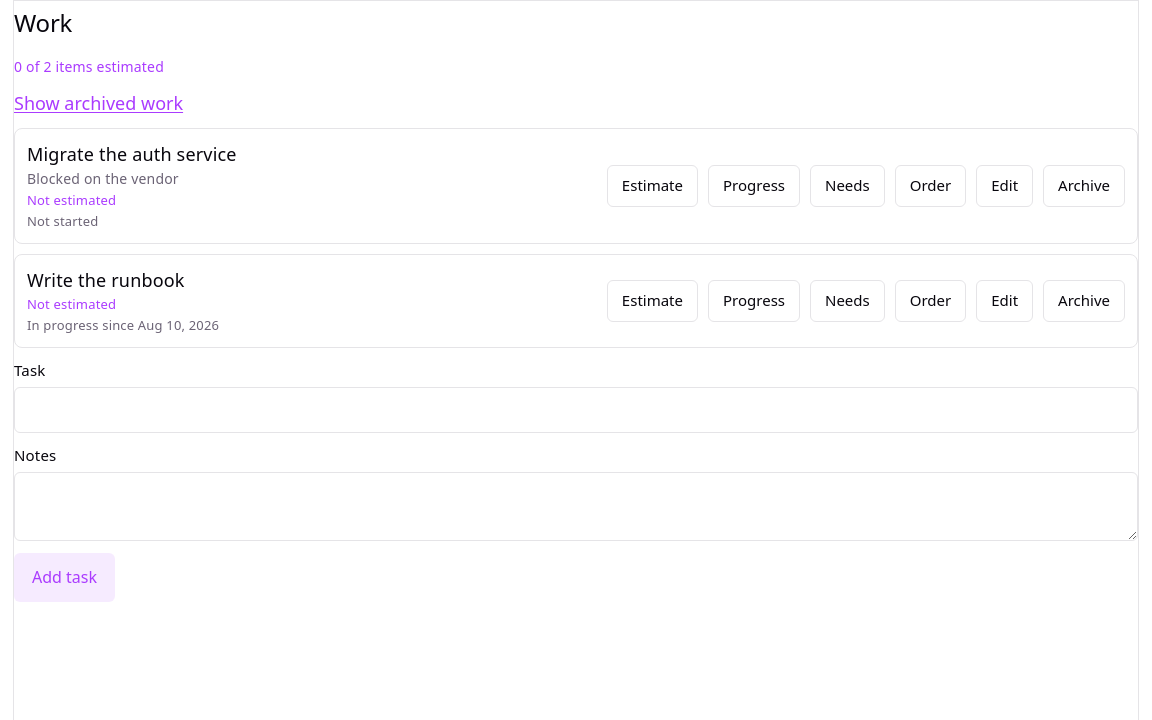
Test case: WorkItems › rewords an item in place
Expected: the heading "Work" is shown, top-left (14, 6), bottom-right (72, 39)
Click the button with aria-label "Edit Write the runbook" at (1005, 301), box top-left (976, 280), bottom-right (1033, 322)
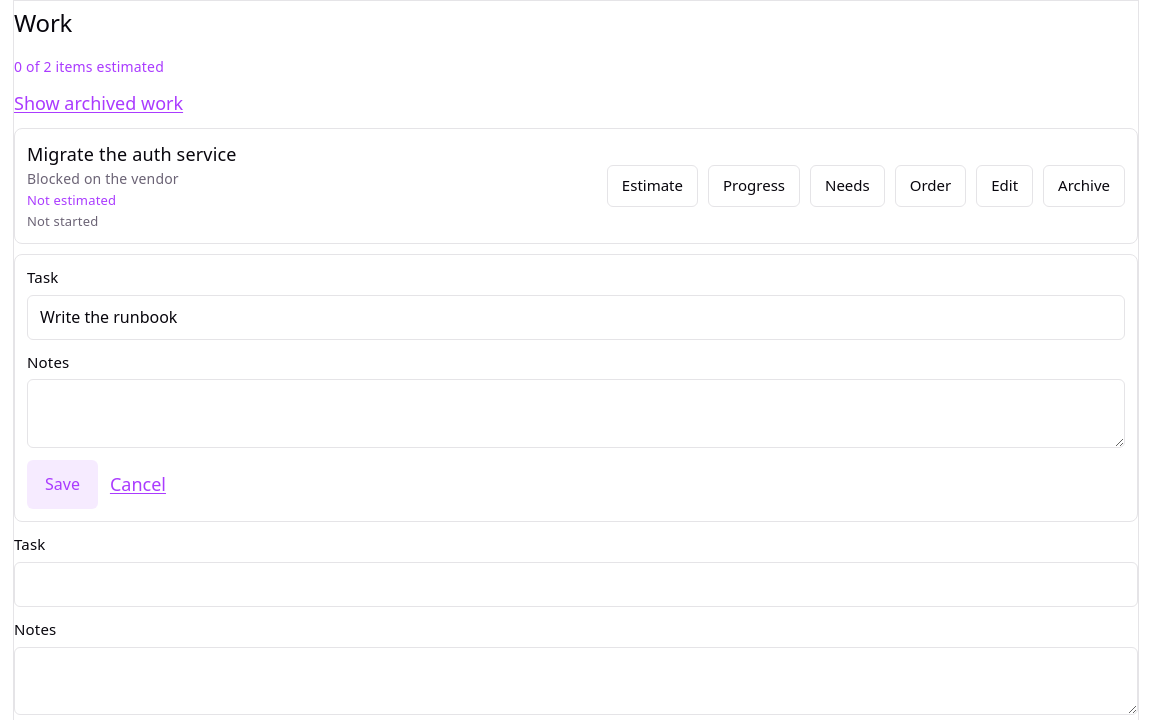
Replace the text in the field labelled "Task" below "Not started" with "Write the runbook and the rollback" at (576, 317), box top-left (27, 294), bottom-right (1125, 340)
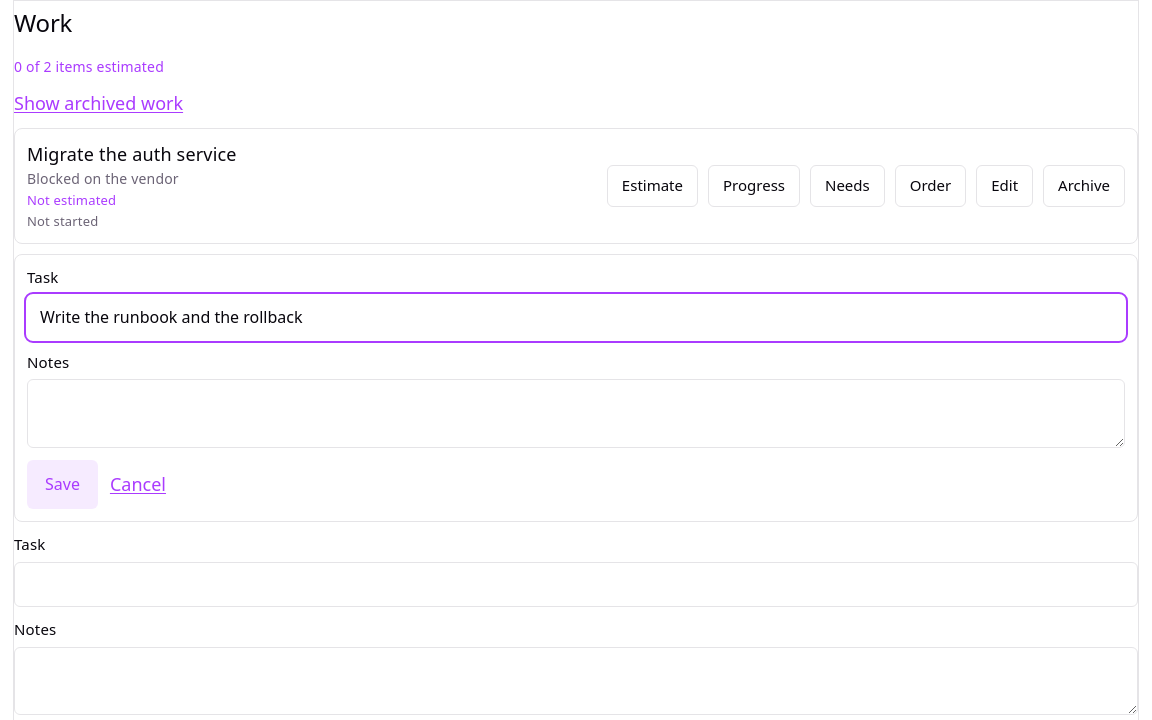
Click the button "Save" at (62, 484), box top-left (27, 460), bottom-right (98, 509)
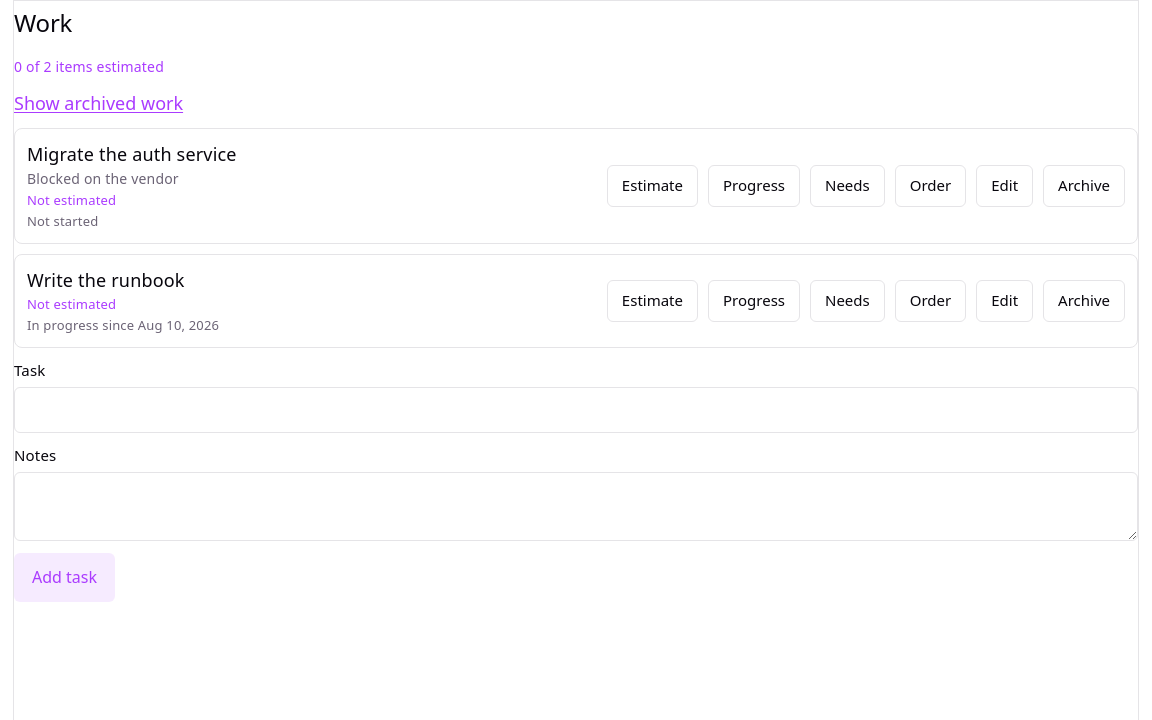
Now the button "Save" is gone
